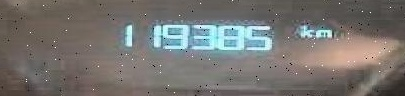1: (116, 20, 136, 47), (143, 21, 161, 48)
3: (187, 22, 214, 48)
5: (243, 22, 269, 49)
8: (216, 24, 242, 50)
9: (160, 22, 185, 48)
X: (296, 22, 311, 37), (314, 26, 329, 37)
